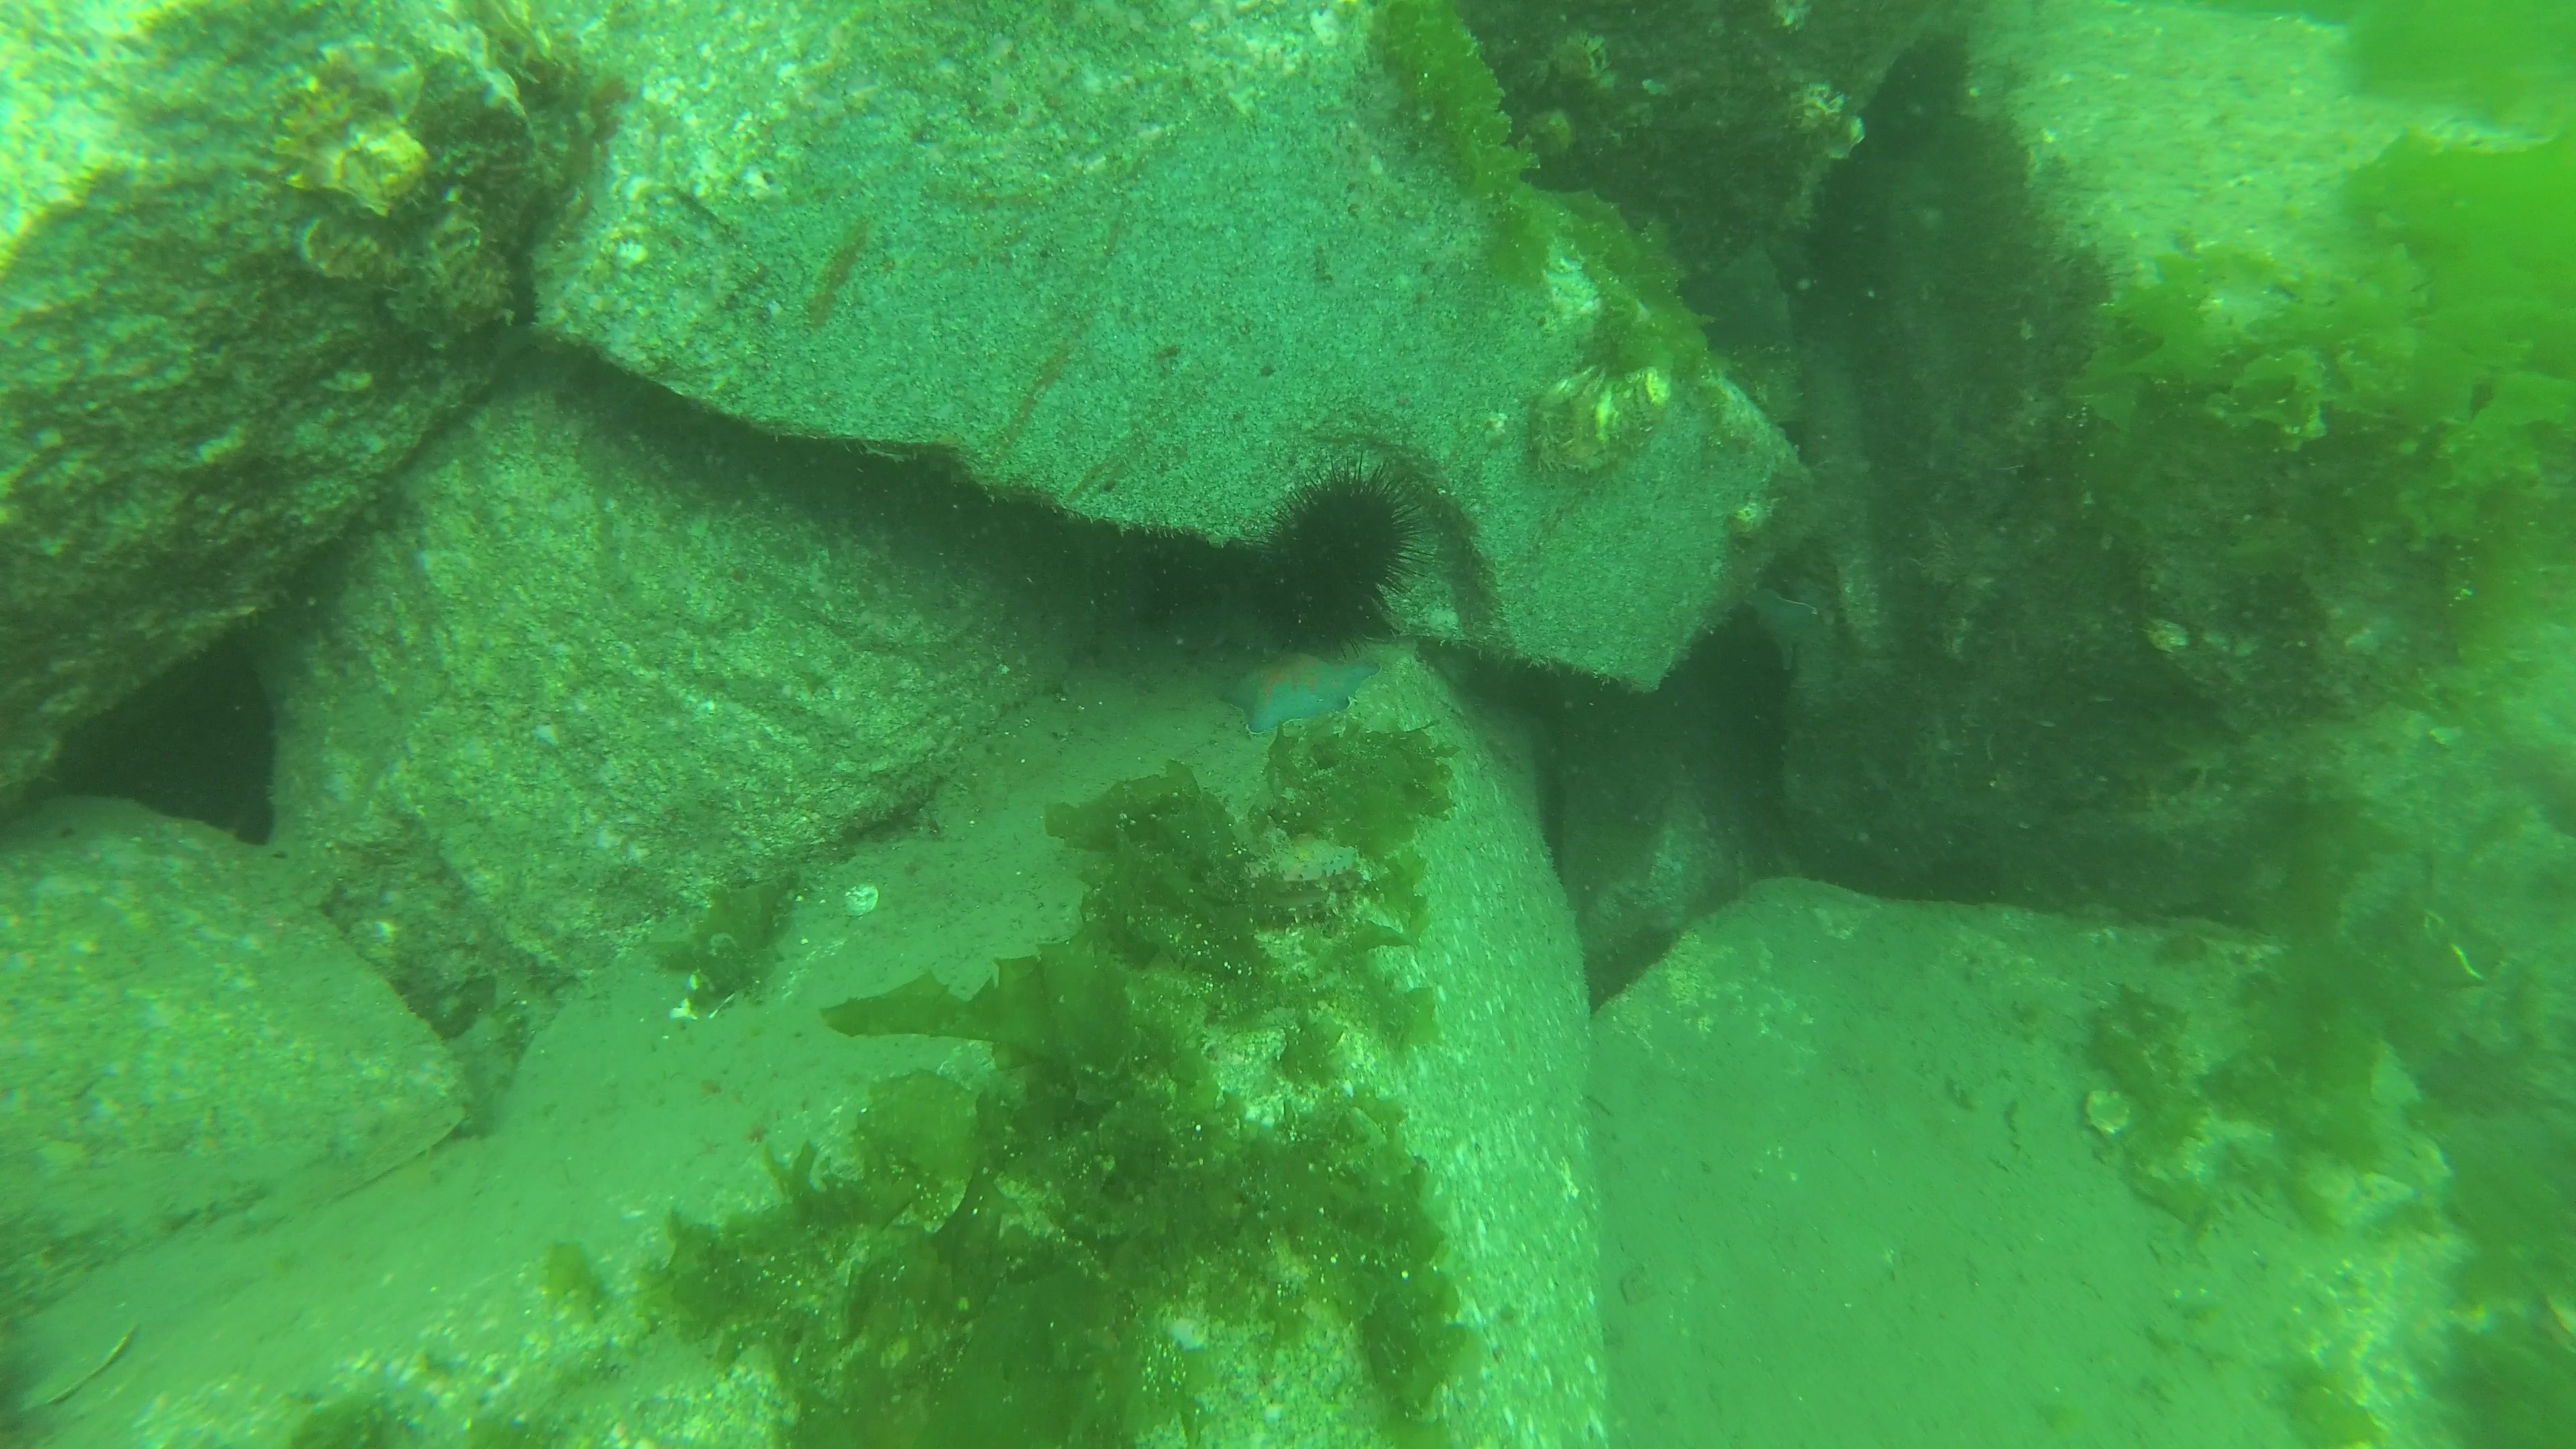echinus: (1238, 465, 1419, 653)
starfish: (1212, 642, 1373, 738)
